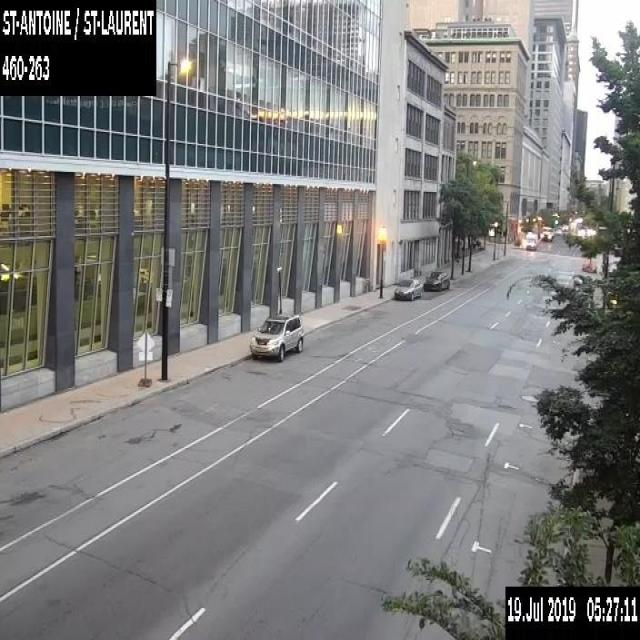construction: (134, 329, 156, 386), (581, 258, 596, 274)
vehicle: (250, 312, 304, 361), (393, 277, 423, 299), (423, 270, 449, 290), (524, 230, 537, 250), (540, 224, 554, 240)
